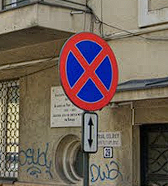oprirea_interzisa: (58, 33, 118, 111)
